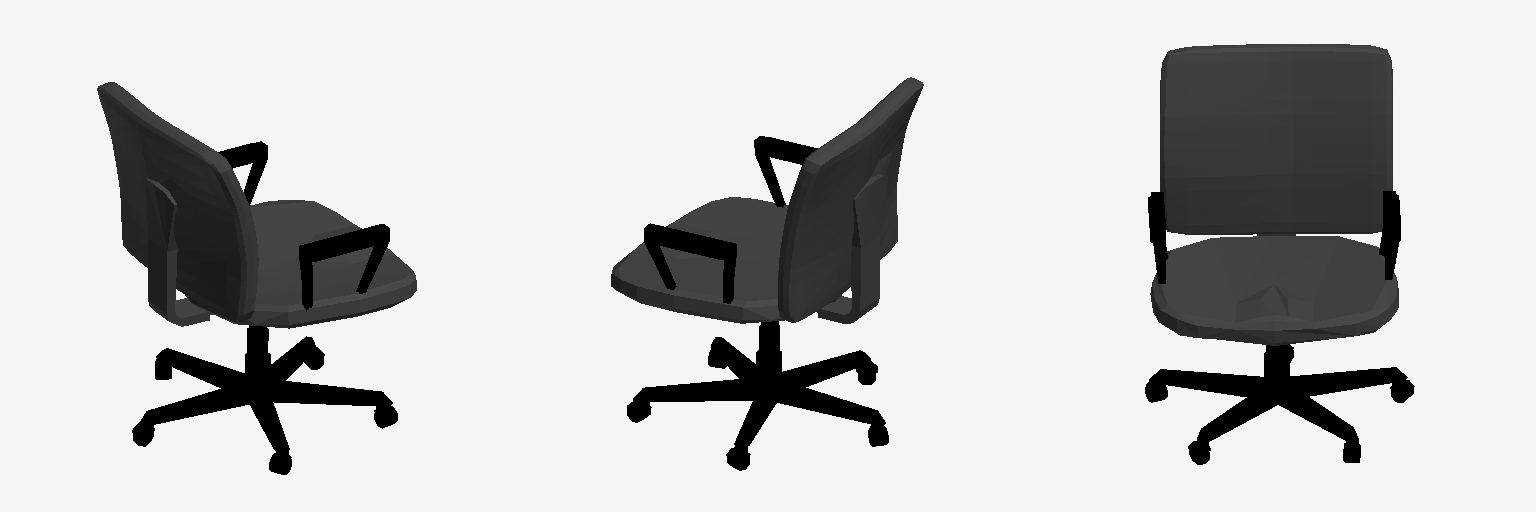
The picture shows the model from 3 angles: view 1: azimuth 30°, elevation 25°; view 2: azimuth 150°, elevation 25°; view 3: azimuth 270°, elevation 25°; orthographic projection.
Parts seen in each view (by area): view 1: SillaAbajo1:polySurface14polySurface15; view 2: SillaAbajo1:polySurface14polySurface15; view 3: SillaAbajo1:polySurface14polySurface15.
Boxes of the visible parts, box(x1,y1,x2,y2) form: SillaAbajo1:polySurface14polySurface15: box(97, 82, 416, 474); SillaAbajo1:polySurface14polySurface15: box(611, 77, 923, 470); SillaAbajo1:polySurface14polySurface15: box(1145, 44, 1414, 464).
Bounding box in the file's own units: 1.41 × 1.79 × 1.34.
5 materials, 1 textured.